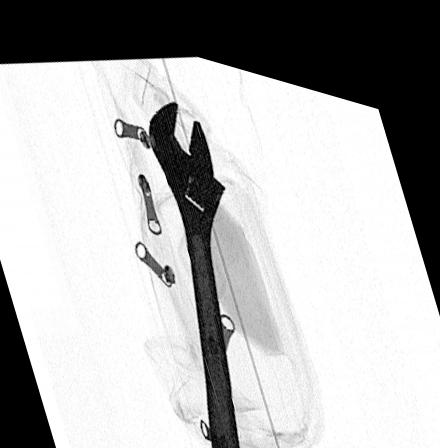Wrench: (146, 96, 241, 448)
